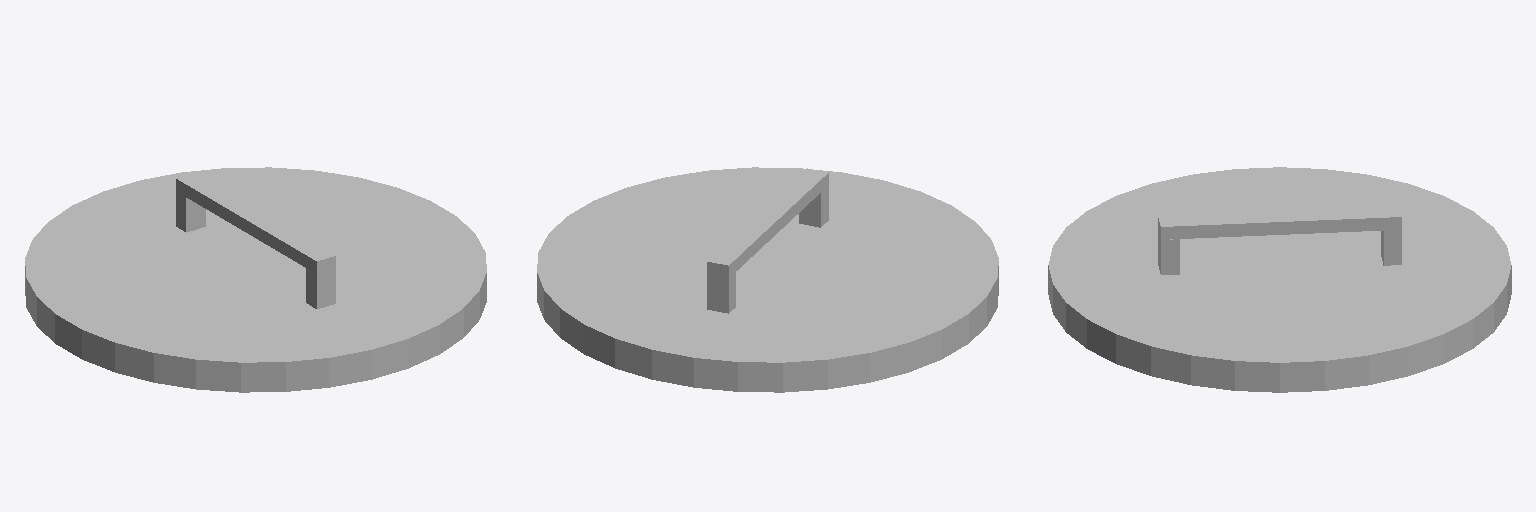
Rendered from trashlid.obj.
3 views of the same model, side by side, from view 1: azimuth 30°, elevation 25°; view 2: azimuth 150°, elevation 25°; view 3: azimuth 270°, elevation 25° (orthographic).
Visible parts, largest first — view 1: Trash_Lid.001_Cube.002; view 2: Trash_Lid.001_Cube.002; view 3: Trash_Lid.001_Cube.002.
Boxes of the visible parts, x1=… form: Trash_Lid.001_Cube.002: x1=25, y1=167, x2=486, y2=392; Trash_Lid.001_Cube.002: x1=537, y1=167, x2=998, y2=392; Trash_Lid.001_Cube.002: x1=1048, y1=167, x2=1511, y2=392.
Size of the model in its own units: 3.47 by 0.6444 by 3.47.